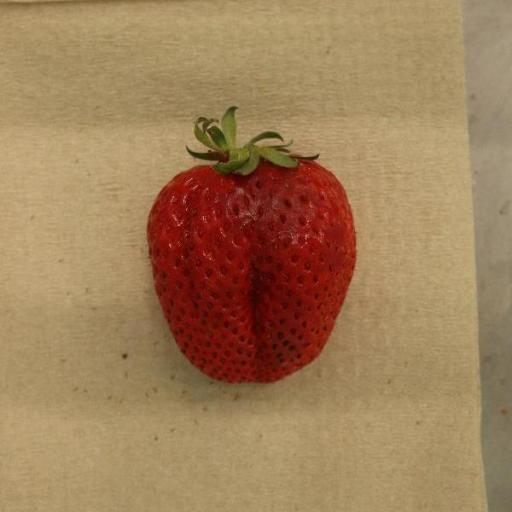Strawberry: (146, 106, 356, 385)
